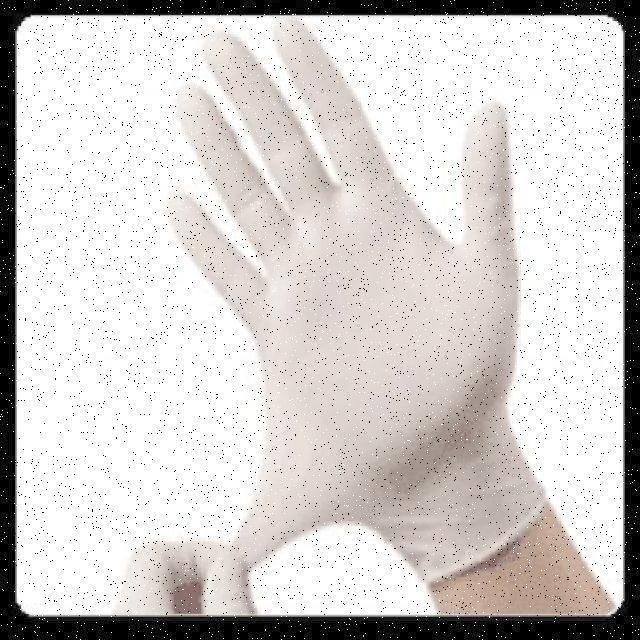Guantes: (175, 51, 548, 538)
